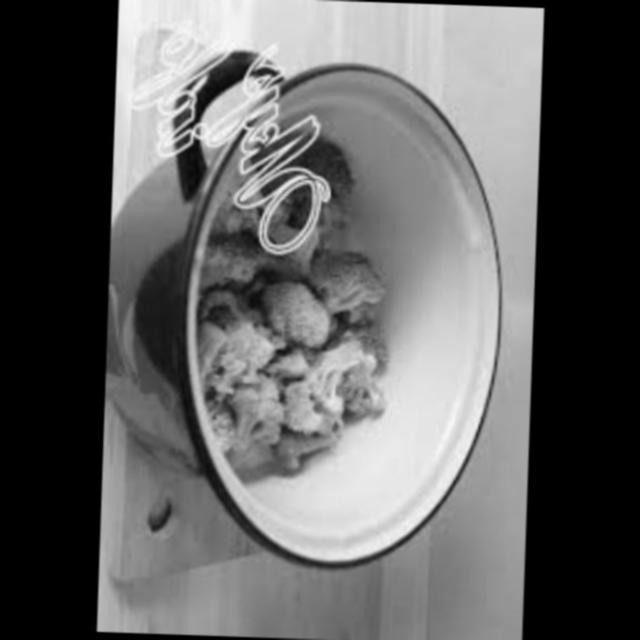broccoli: (168, 212, 414, 489)
